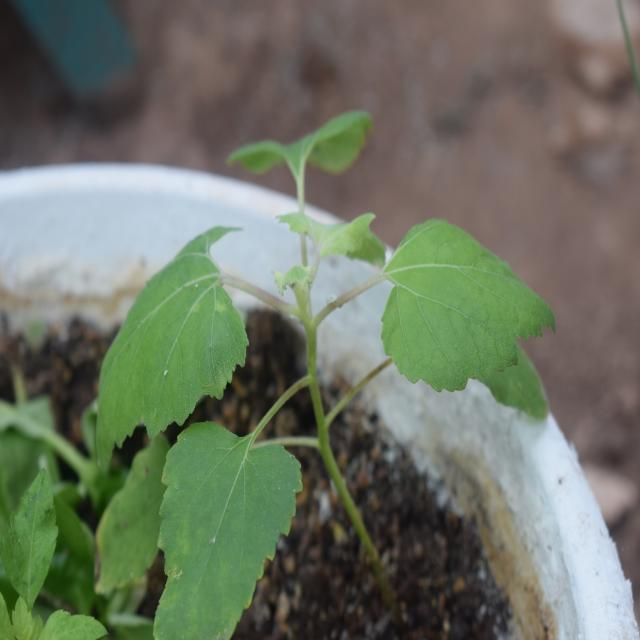cocklebur: (94, 103, 531, 614)
